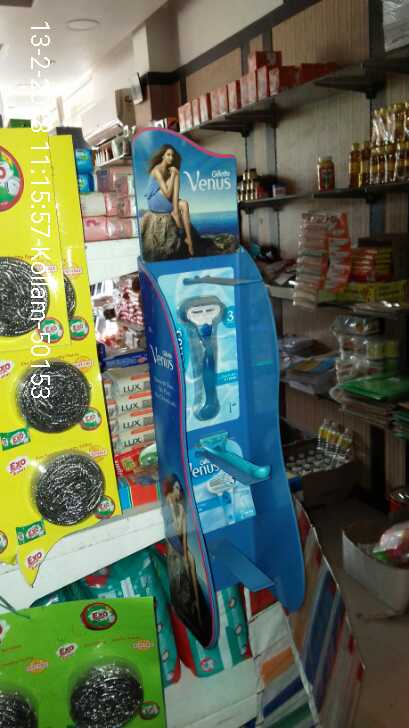venus: (159, 270, 243, 423), (191, 443, 252, 528)
